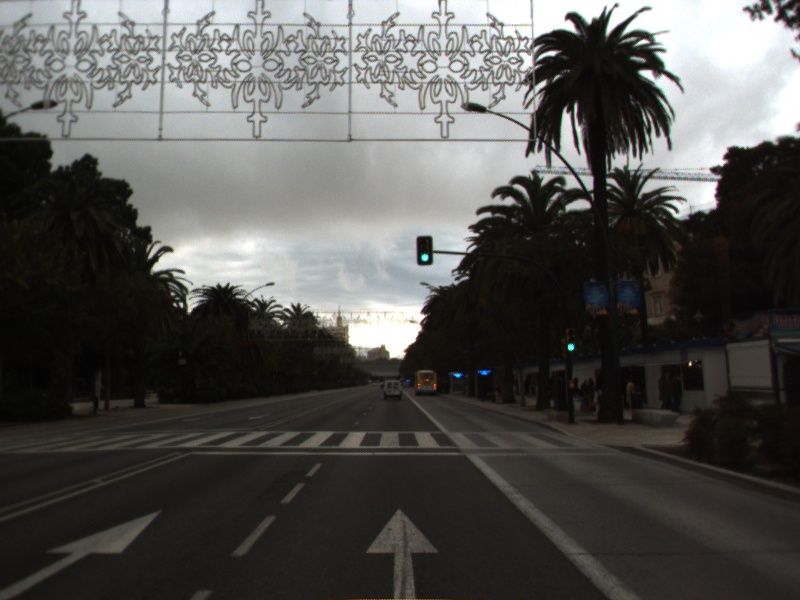STRAIGHT: (1, 507, 165, 600), (364, 506, 440, 600)
